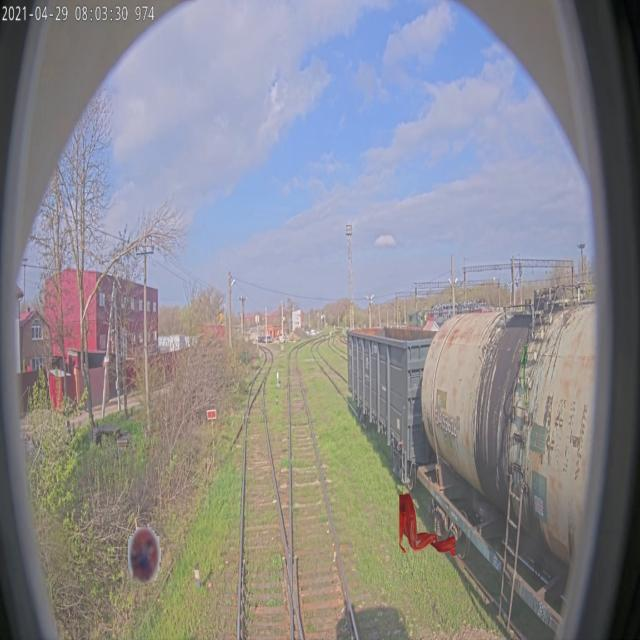floating object: (399, 493, 455, 558), (128, 518, 161, 582), (521, 344, 528, 408)
